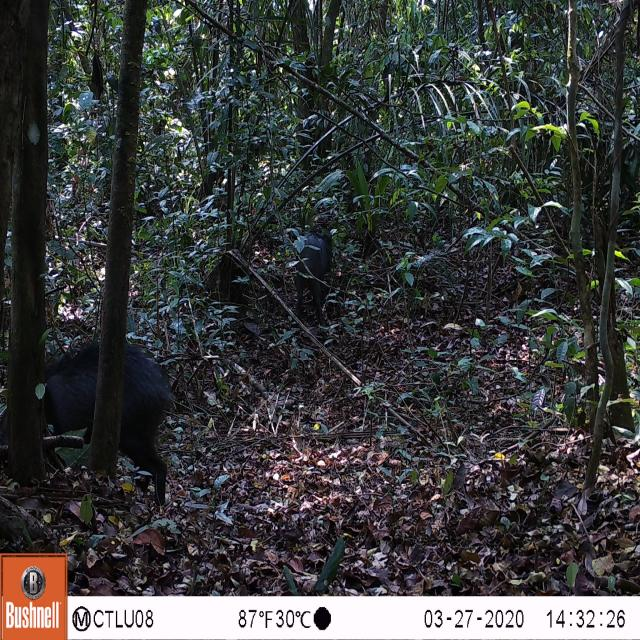Collared Peccary: (0, 332, 175, 523)
